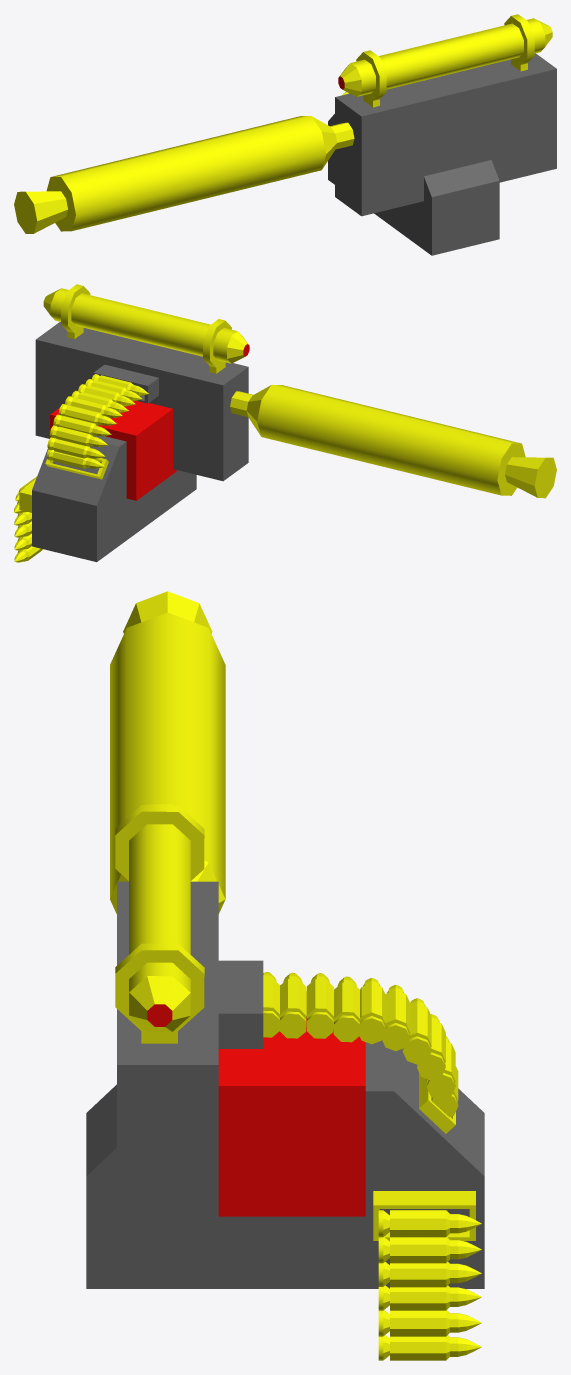
The model's file is Waffe_3.FBX.
The picture shows the model from 3 angles, top to bottom: view 1: azimuth 30°, elevation 25°; view 2: azimuth 150°, elevation 25°; view 3: azimuth 270°, elevation 25°; orthographic projection. The views are drawn at different scales.
Parts seen in each view (by area): view 1: Cylinder019; view 2: Cylinder019; view 3: Cylinder019.
Part boxes in pixels (left/top/right/bottom): Cylinder019: left=14, top=14, right=556, bottom=255; Cylinder019: left=14, top=284, right=556, bottom=562; Cylinder019: left=86, top=591, right=484, bottom=1360.
Size of the model in its own units: 92.99 by 38.34 by 32.03.
1 material, 1 textured.
